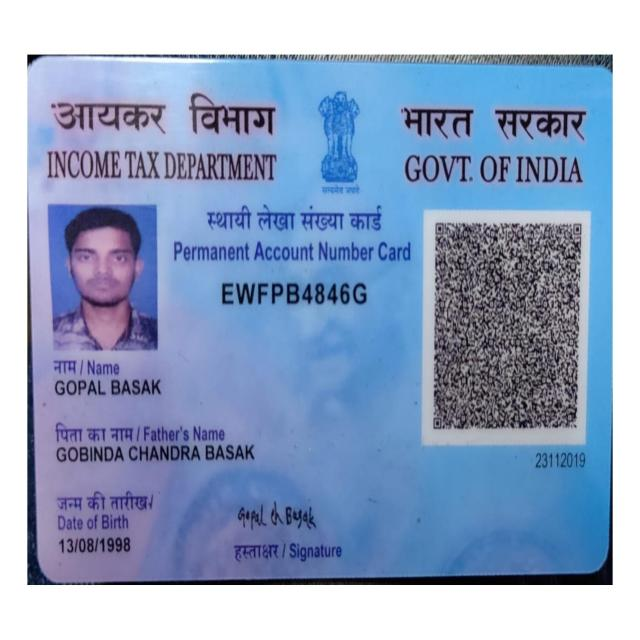pan_card: (29, 67, 614, 577)
